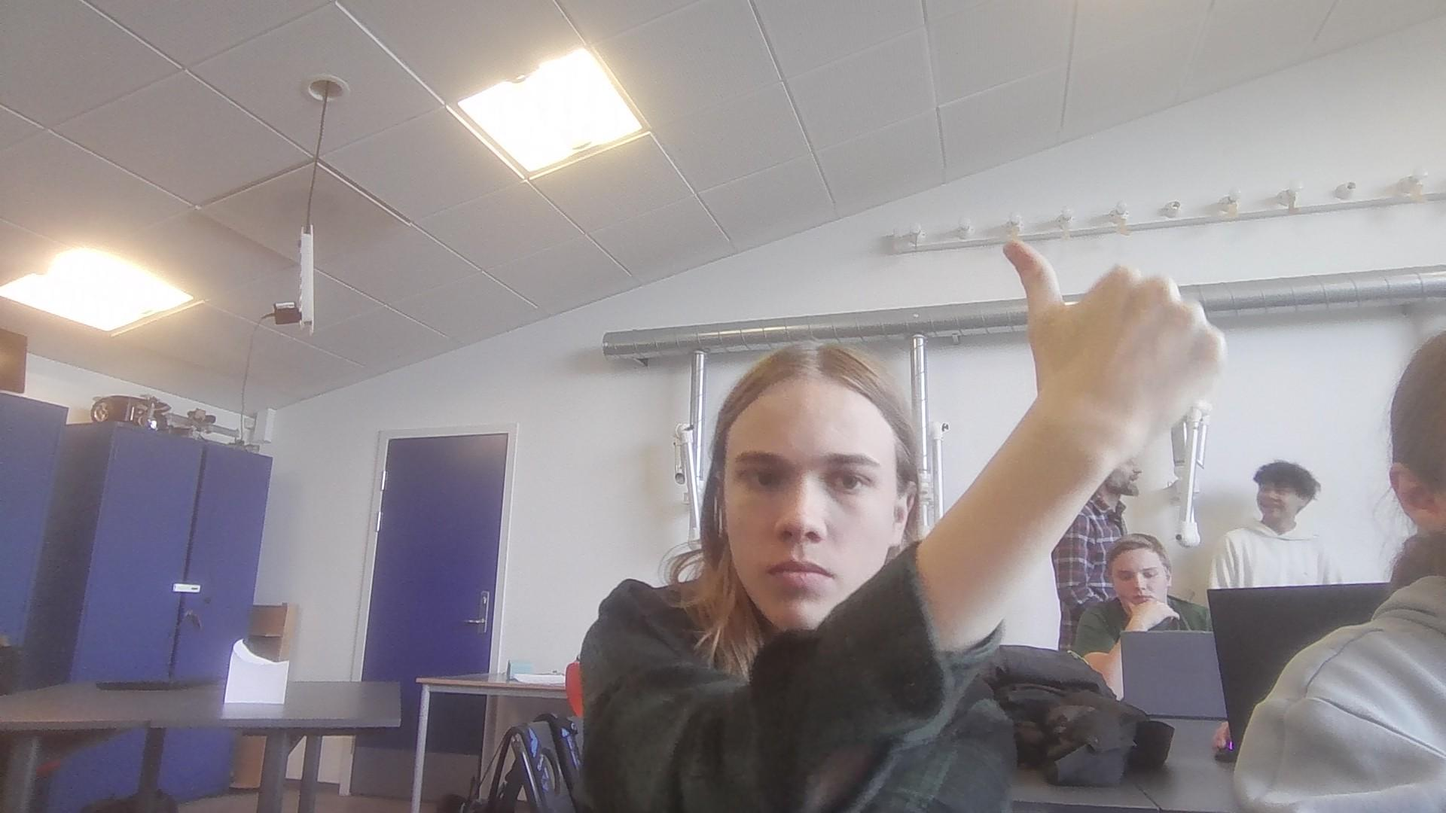thumbs up: (1002, 226, 1225, 458)
